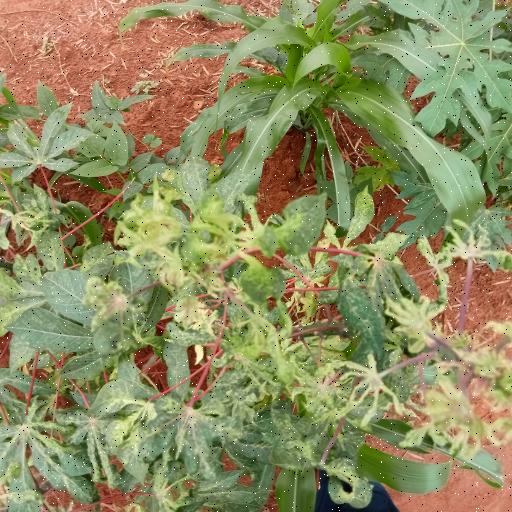Cassava_Mosaic: (112, 403, 246, 490), (2, 422, 85, 512), (344, 257, 418, 347), (0, 102, 85, 179)
